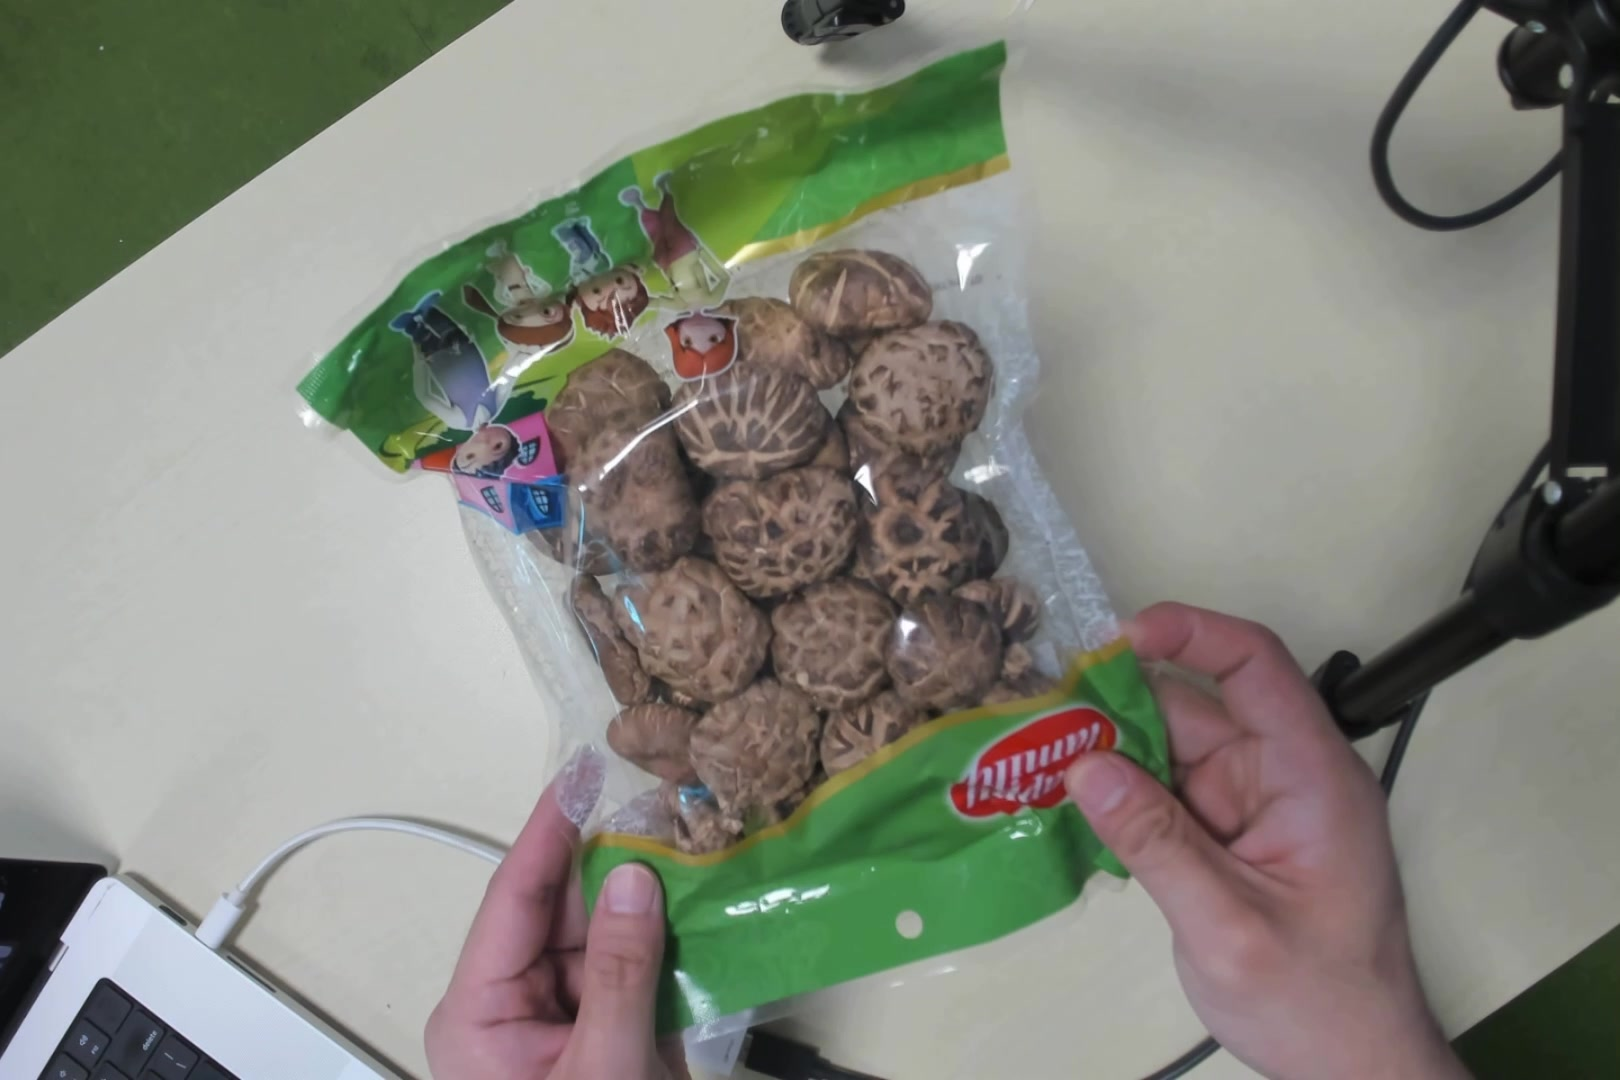OtherDriedFood_100-199g_NonHalal_NonHealthy: (427, 117, 1104, 917)
